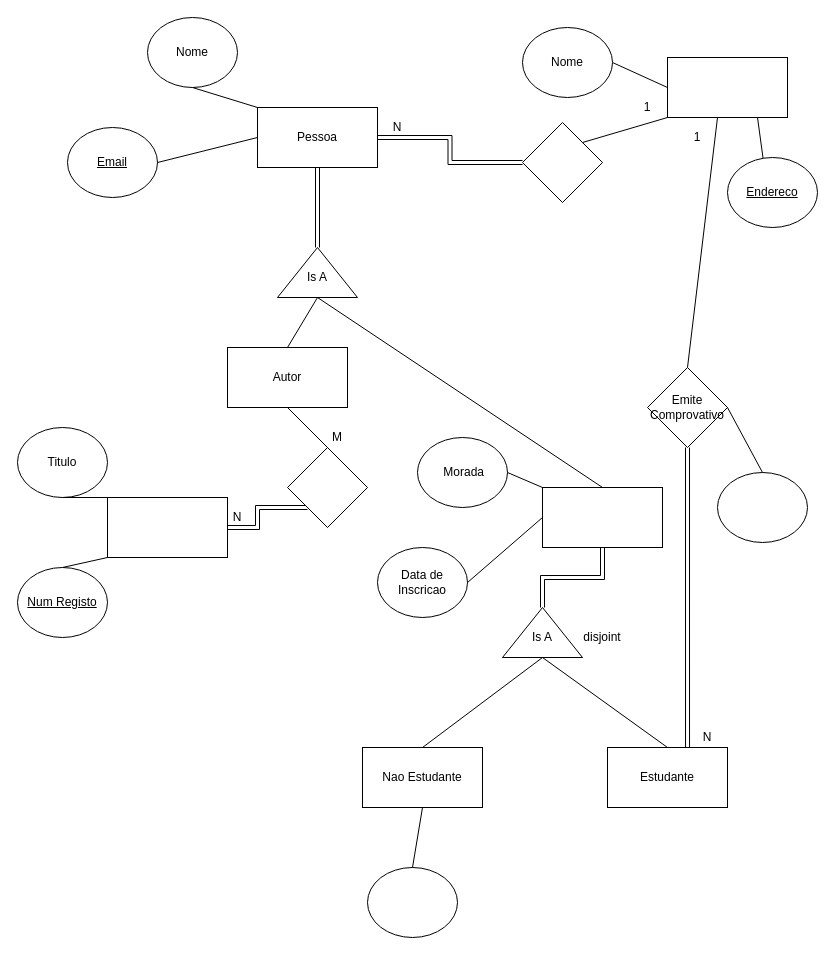
This 835x955 diagram has some shape labels left out. The box of each missing label's shape, as (x1, y1, x2, y2) in pixels:
Artigo: (106, 496, 228, 558)
Instituicao: (666, 56, 788, 118)
Localizacao eletronica: (716, 472, 808, 542)
Participante: (542, 486, 662, 548)
Pertence: (522, 122, 602, 202)
Referencia de transacao bancaria: (366, 866, 458, 938)
Tem: (286, 446, 368, 528)
